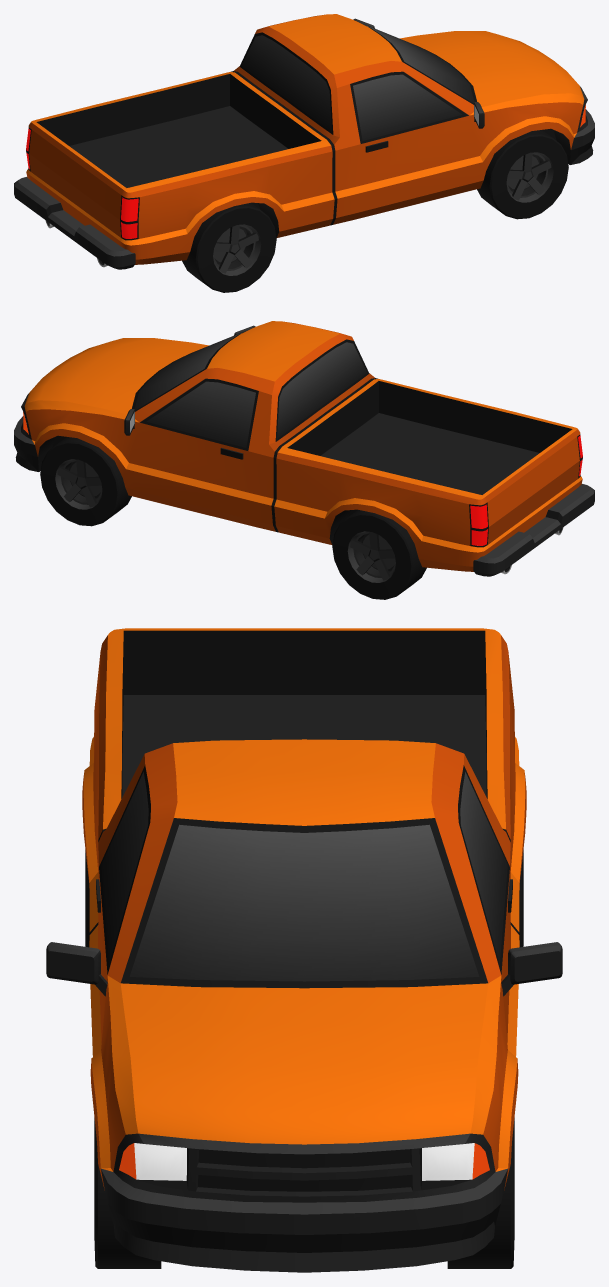
Rendered from Car_098.glb.
3 views of the same model, one above another, from view 1: azimuth 30°, elevation 25°; view 2: azimuth 150°, elevation 25°; view 3: azimuth 270°, elevation 25° (orthographic). The views are drawn at different scales.
Parts seen in each view (by area): view 1: Car_098, wheel_3_Car_098_Wheel_2R, wheel_1_Car_098_Wheel_1R; view 2: Car_098, wheel_2_Car_098_Wheel_2L, wheel_0_Car_098_Wheel_1L; view 3: Car_098, wheel_1_Car_098_Wheel_1R, wheel_0_Car_098_Wheel_1L.
Part boxes in pixels (x1=…): Car_098: x1=14, y1=14, x2=594, y2=269; wheel_3_Car_098_Wheel_2R: x1=182, y1=203, x2=276, y2=292; wheel_1_Car_098_Wheel_1R: x1=477, y1=130, x2=568, y2=219; Car_098: x1=14, y1=321, x2=594, y2=576; wheel_2_Car_098_Wheel_2L: x1=332, y1=510, x2=426, y2=599; wheel_0_Car_098_Wheel_1L: x1=40, y1=437, x2=131, y2=526; Car_098: x1=46, y1=628, x2=562, y2=1272; wheel_1_Car_098_Wheel_1R: x1=94, y1=1118, x2=161, y2=1268; wheel_0_Car_098_Wheel_1L: x1=447, y1=1118, x2=514, y2=1268.
Bounding box in the file's own units: 4.96 × 1.64 × 2.18.
3 materials, 3 textured.
